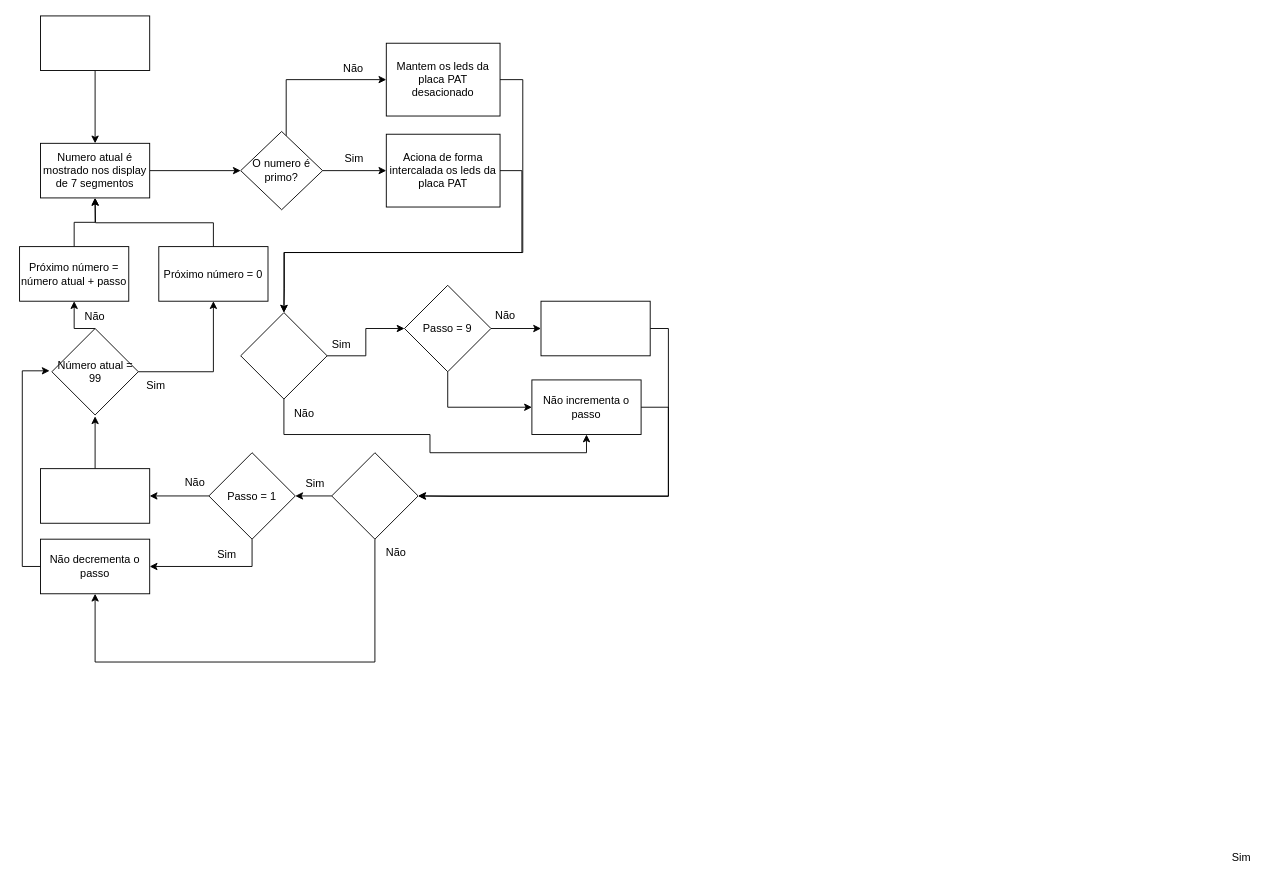
Some shapes in this 1285 by 887 pixel diagram are drawn without their labels. Each missing label, with the box of its shape:
Contador começa em 00 e o passo em 1: (40, 15, 150, 71)
Decrementa o passo em 1: (40, 468, 150, 523)
Incrementa o passo em 1: (540, 300, 650, 356)
Switch 1 está pressionado?: (240, 312, 327, 399)
Switch 2 está pressionado?: (331, 452, 418, 539)
